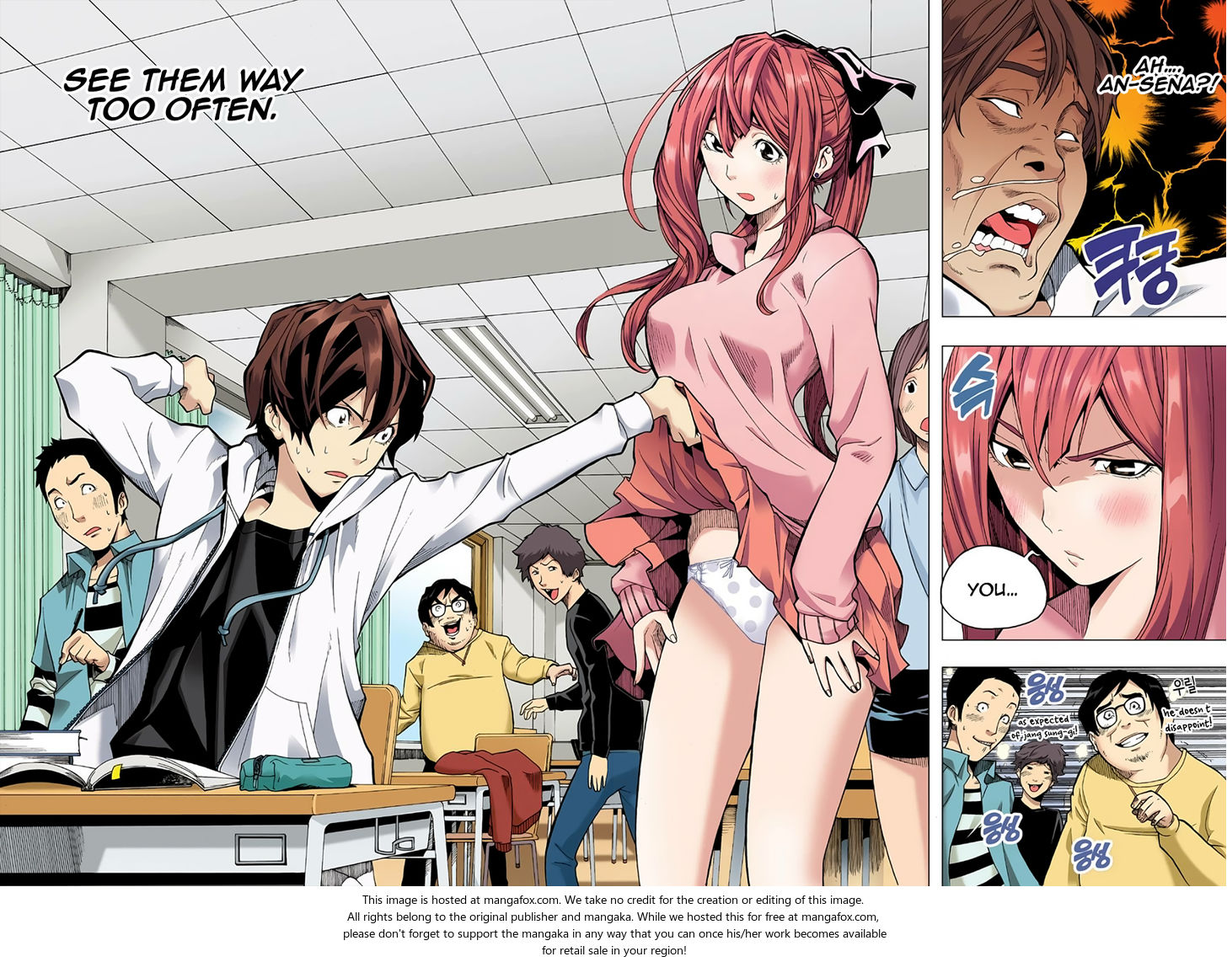bubble: (941, 545, 1047, 628)
